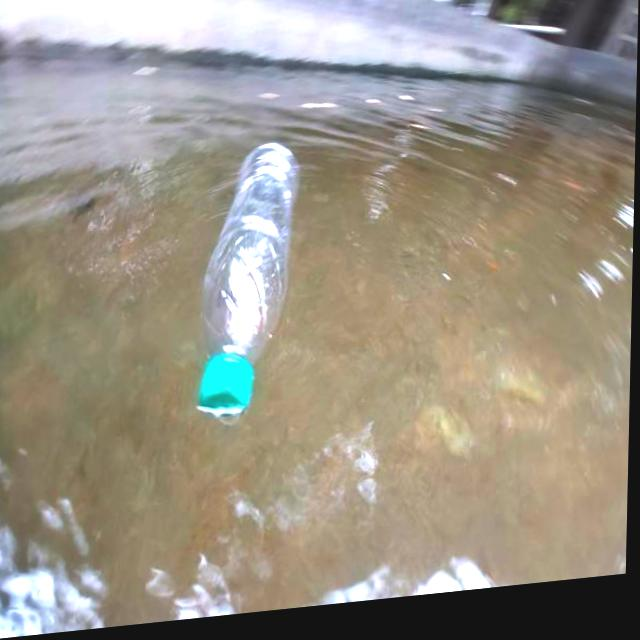waterbottle: (178, 141, 328, 417)
